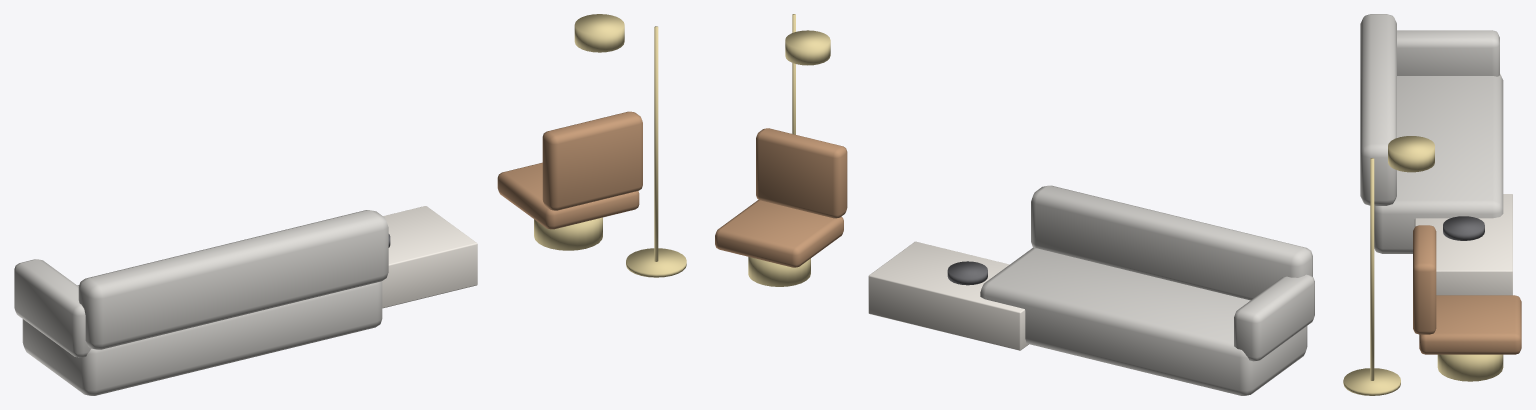
File: room_luxury_living.glb
3 views of the same model, side by side, from view 1: azimuth 30°, elevation 25°; view 2: azimuth 150°, elevation 25°; view 3: azimuth 270°, elevation 25° (orthographic). The views are drawn at different scales.
Visible parts, largest first — view 1: Luxury_Sofa_Back, Luxury_Sofa_Seat, Swivel_Chair_Back, Travertine_Table, Luxury_Arm_L, Swivel_Chair_Seat, Lamp_Shade, Swivel_Base, Lamp_Base, Lamp_Pole; view 2: Luxury_Sofa_Seat, Luxury_Sofa_Back, Travertine_Table, Swivel_Chair_Back, Swivel_Chair_Seat, Luxury_Arm_L, Lamp_Shade, Swivel_Base, Marble_Bowl; view 3: Luxury_Sofa_Seat, Luxury_Sofa_Back, Travertine_Table, Swivel_Chair_Seat, Luxury_Arm_L, Swivel_Chair_Back, Swivel_Base, Lamp_Shade, Lamp_Base, Lamp_Pole, Marble_Bowl.
Part boxes in pixels (<box>): Luxury_Sofa_Back: <box>78,210,388,349</box>; Luxury_Sofa_Seat: <box>22,281,382,395</box>; Swivel_Chair_Back: <box>542,111,642,210</box>; Travertine_Table: <box>382,206,477,308</box>; Luxury_Arm_L: <box>14,259,90,357</box>; Swivel_Chair_Seat: <box>497,162,639,229</box>; Lamp_Shade: <box>574,14,624,52</box>; Swivel_Base: <box>534,217,602,250</box>; Lamp_Base: <box>626,248,686,277</box>; Lamp_Pole: <box>654,26,658,261</box>; Luxury_Sofa_Seat: <box>980,247,1307,395</box>; Luxury_Sofa_Back: <box>1031,185,1312,300</box>; Travertine_Table: <box>868,241,1028,350</box>; Swivel_Chair_Back: <box>756,128,847,218</box>; Swivel_Chair_Seat: <box>715,199,843,267</box>; Luxury_Arm_L: <box>1234,274,1314,361</box>; Lamp_Shade: <box>785,30,830,65</box>; Swivel_Base: <box>748,257,810,286</box>; Marble_Bowl: <box>947,261,987,285</box>; Luxury_Sofa_Seat: <box>1374,74,1503,253</box>; Luxury_Sofa_Back: <box>1360,14,1396,205</box>; Travertine_Table: <box>1414,194,1512,295</box>; Swivel_Chair_Seat: <box>1419,295,1521,354</box>; Luxury_Arm_L: <box>1397,30,1499,76</box>; Swivel_Chair_Back: <box>1413,225,1436,334</box>; Swivel_Base: <box>1437,354,1503,381</box>; Lamp_Shade: <box>1388,136,1434,172</box>; Lamp_Base: <box>1343,368,1400,395</box>; Lamp_Pole: <box>1370,158,1374,380</box>; Marble_Bowl: <box>1443,216,1484,240</box>.
Size of the model in its own units: 5.05 by 1.9 by 1.36.
